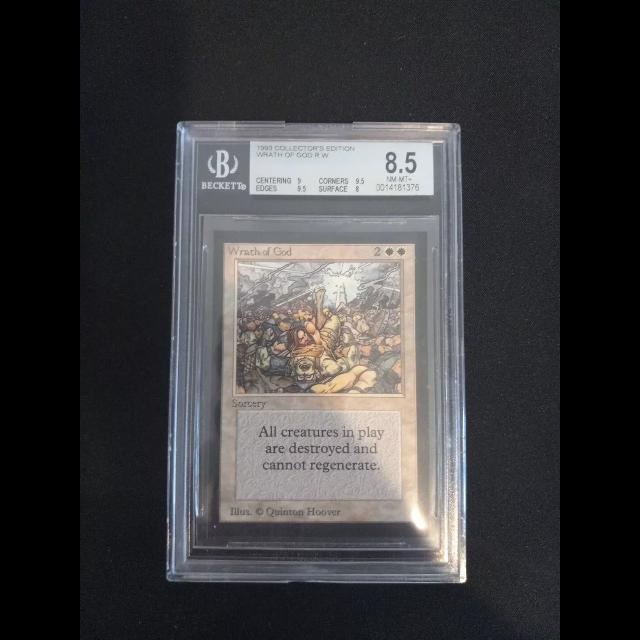bgs_label: (249, 140, 435, 196)
bgs_slab: (167, 119, 468, 584)
card: (206, 230, 429, 537)
